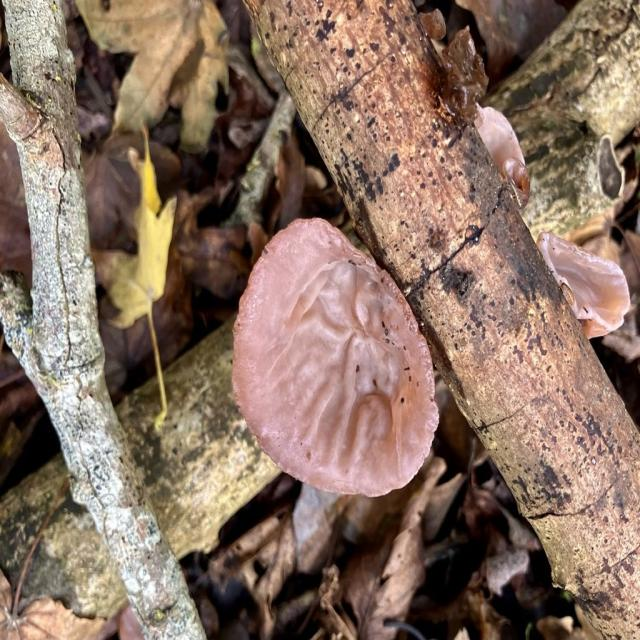Fase Muda: (225, 210, 442, 499), (534, 224, 632, 350), (475, 101, 537, 217)
